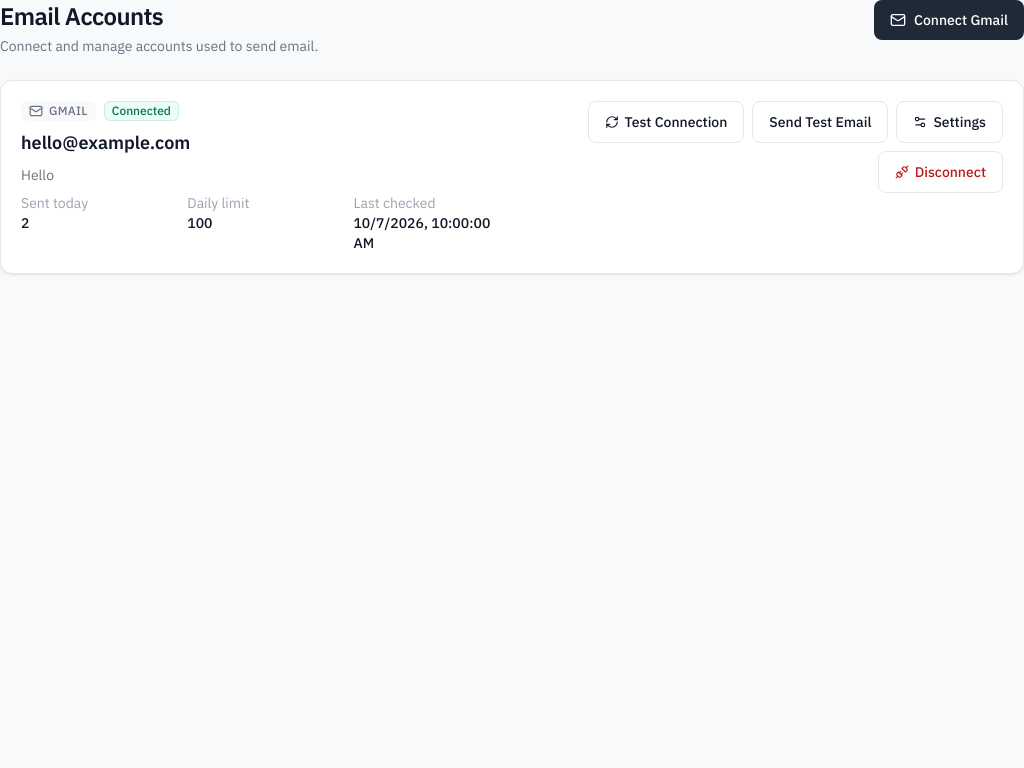
EmailAccountsPage › shows disconnect confirmation
Expected: the heading "hello@example.com" is shown, [21, 131, 190, 154]
Click the button "Disconnect" at (940, 172), box [878, 151, 1003, 193]
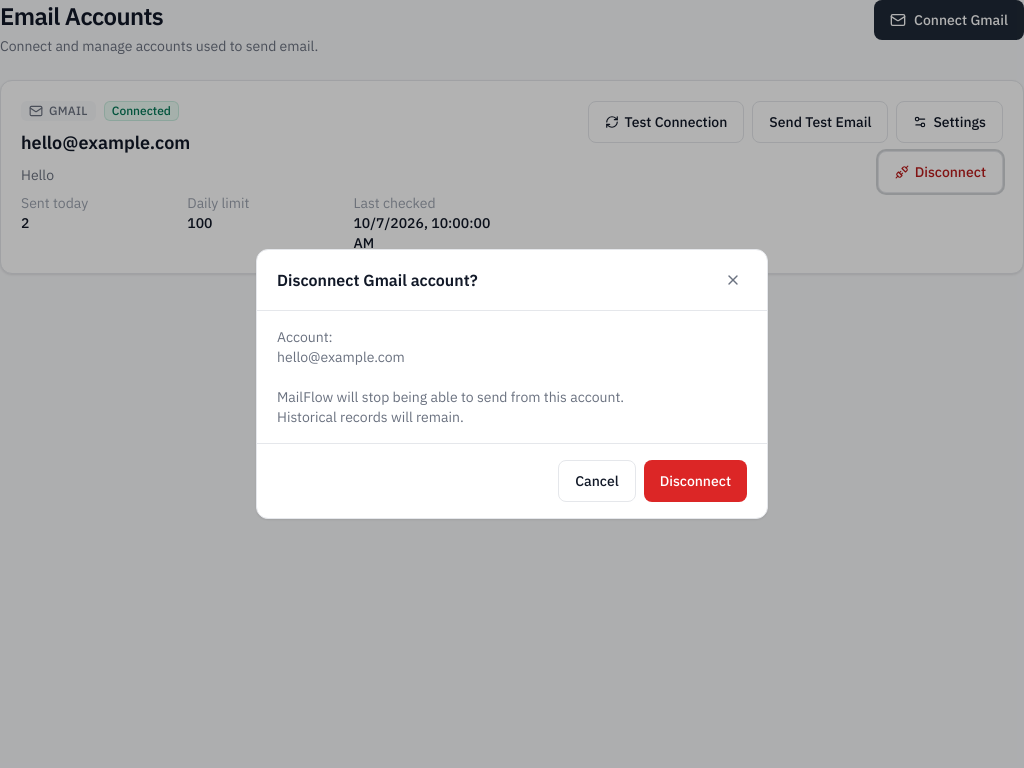
Result: the heading "Disconnect Gmail account?" is shown at [277, 268, 478, 292]
Result: the text "hello@example.com" is shown at [277, 328, 624, 426]
